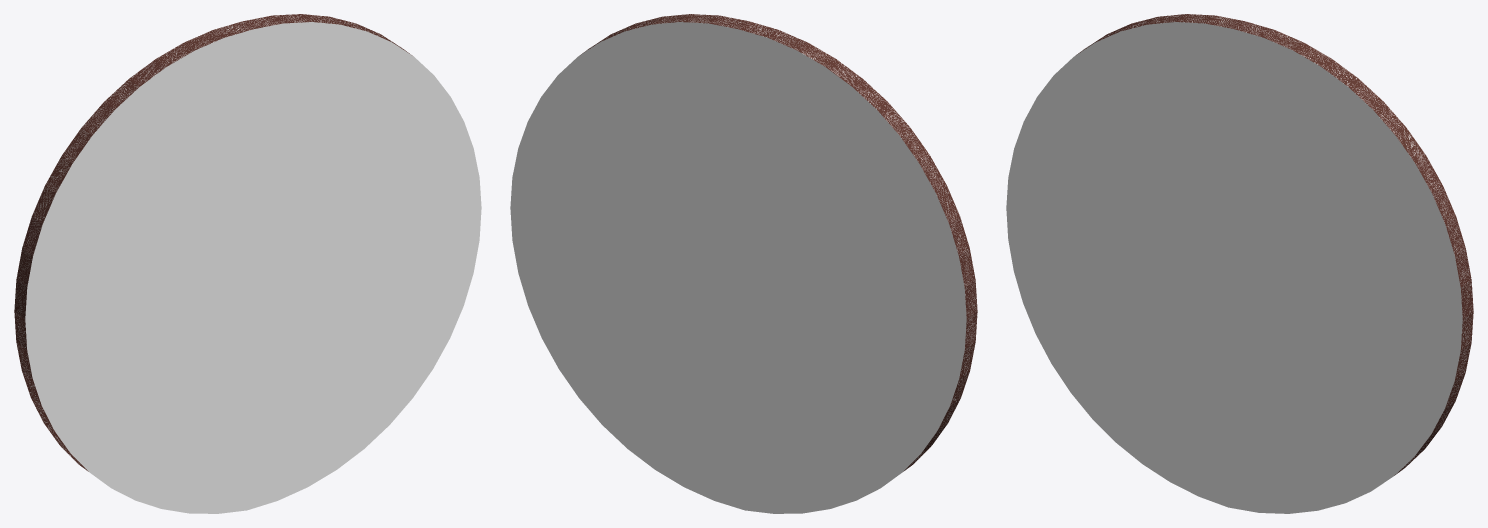
3 views of the same model, side by side, from view 1: azimuth 30°, elevation 25°; view 2: azimuth 150°, elevation 25°; view 3: azimuth 330°, elevation 25° (orthographic).
Parts seen in each view (by area): view 1: penny from; view 2: penny from; view 3: penny from.
Part boxes in pixels (box(x1,y1,x2,y2)): penny from: box(14, 14, 481, 513); penny from: box(510, 14, 977, 513); penny from: box(1006, 14, 1473, 513).
Bounding box in the file's own units: 113 × 114 × 4.69.
